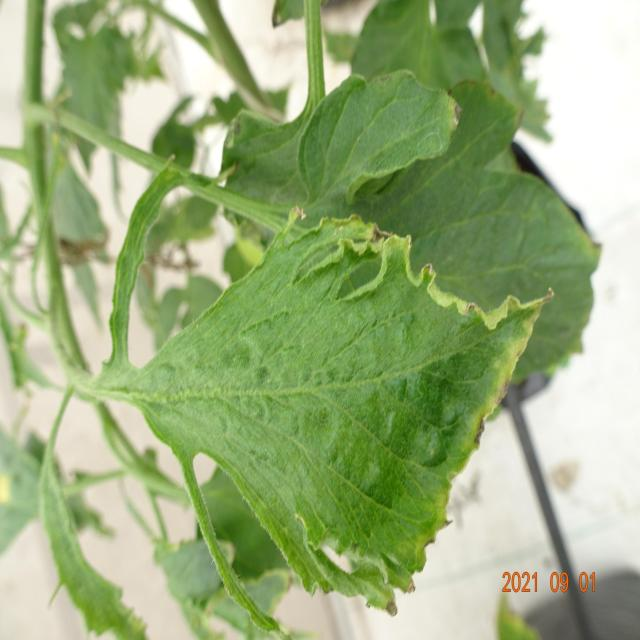T_L_R: (94, 218, 549, 616)
